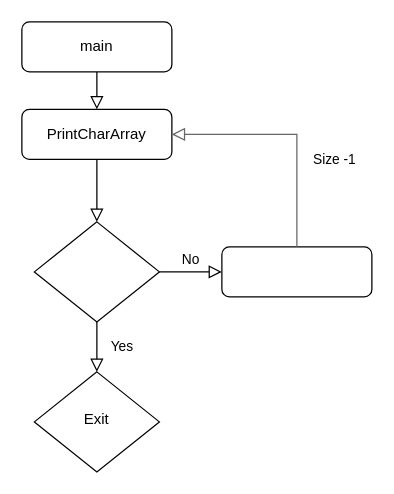
Image size: 394x494. Some labels were removed from this diagram. The shapes that lost their labels are listed below. From the top down, each one's centre as x and y in pixels, then its label:
At [96,271]: "-size > 0?".
At [296,271]: "printf array element".
